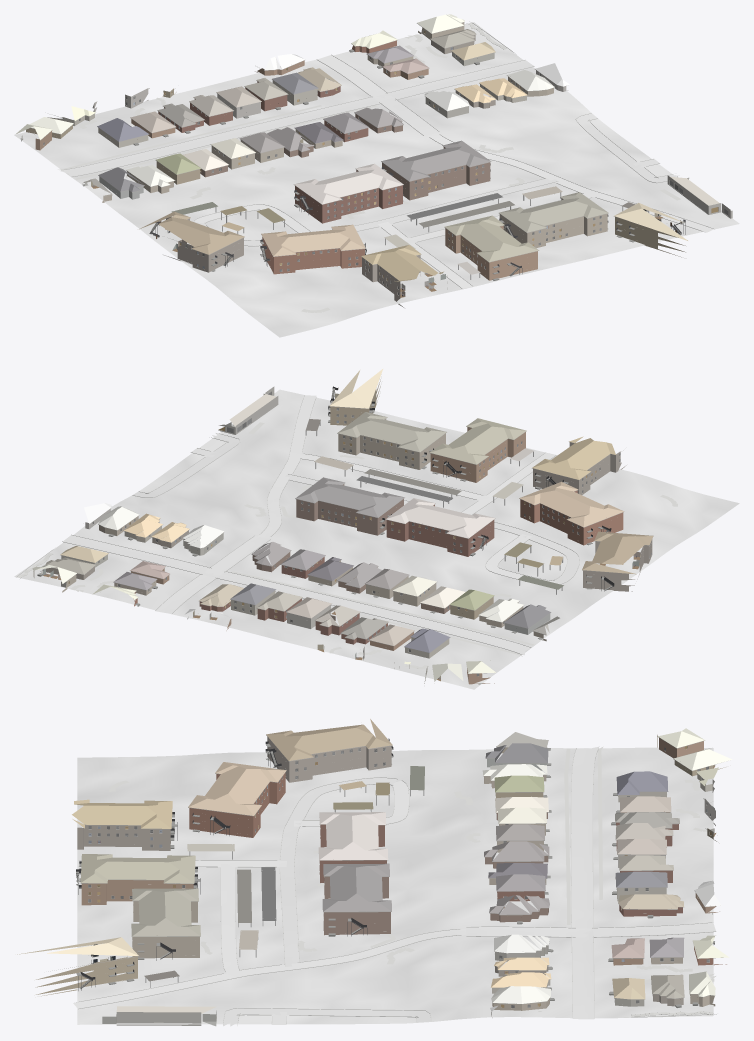
3 renders of one model, top to bottom at view 1: azimuth 30°, elevation 25°; view 2: azimuth 150°, elevation 25°; view 3: azimuth 270°, elevation 25°, orthographic. The views are drawn at different scales.
Visible parts, largest first — view 1: ground, roof, wall, concrete, detail, roof_flat, wall_stucco, curb, walk, glass, wall_com, wall_stone; view 2: ground, roof, wall, concrete, detail, roof_flat, curb, wall_stucco, walk, glass, wall_com, room (+1 smaller); view 3: ground, roof, concrete, wall, detail, roof_flat, curb, walk, wall_stucco, wall_com, glass, rail.
Part boxes in pixels (<box>): ground: <box>14,22,739,337</box>; roof: <box>15,14,687,281</box>; wall: <box>26,22,685,307</box>; concrete: <box>59,55,713,288</box>; detail: <box>20,22,727,295</box>; roof_flat: <box>171,176,719,274</box>; wall_stucco: <box>47,52,526,199</box>; curb: <box>61,22,713,288</box>; walk: <box>58,22,680,312</box>; glass: <box>43,55,728,294</box>; wall_com: <box>210,175,732,279</box>; wall_stone: <box>92,70,568,118</box>; ground: <box>14,389,739,689</box>; roof: <box>33,369,653,681</box>; wall: <box>33,379,652,684</box>; concrete: <box>63,395,579,655</box>; detail: <box>37,387,653,684</box>; roof_flat: <box>229,394,563,589</box>; curb: <box>16,395,579,654</box>; wall_stucco: <box>61,519,550,683</box>; walk: <box>17,422,677,669</box>; glass: <box>92,392,651,676</box>; wall_com: <box>219,386,563,594</box>; room: <box>43,393,640,681</box>; ground: <box>77,747,713,1024</box>; roof: <box>17,719,732,1011</box>; concrete: <box>73,746,715,1026</box>; wall: <box>35,734,726,1010</box>; detail: <box>48,735,723,1022</box>; roof_flat: <box>116,766,424,1013</box>; curb: <box>76,747,716,1025</box>; walk: <box>109,746,715,1016</box>; wall_stucco: <box>487,759,713,1006</box>; wall_com: <box>116,781,424,1025</box>; glass: <box>88,747,710,1014</box>; rail: <box>76,738,393,980</box>.
Bounding box in the file's own units: 264 × 16 × 285.
